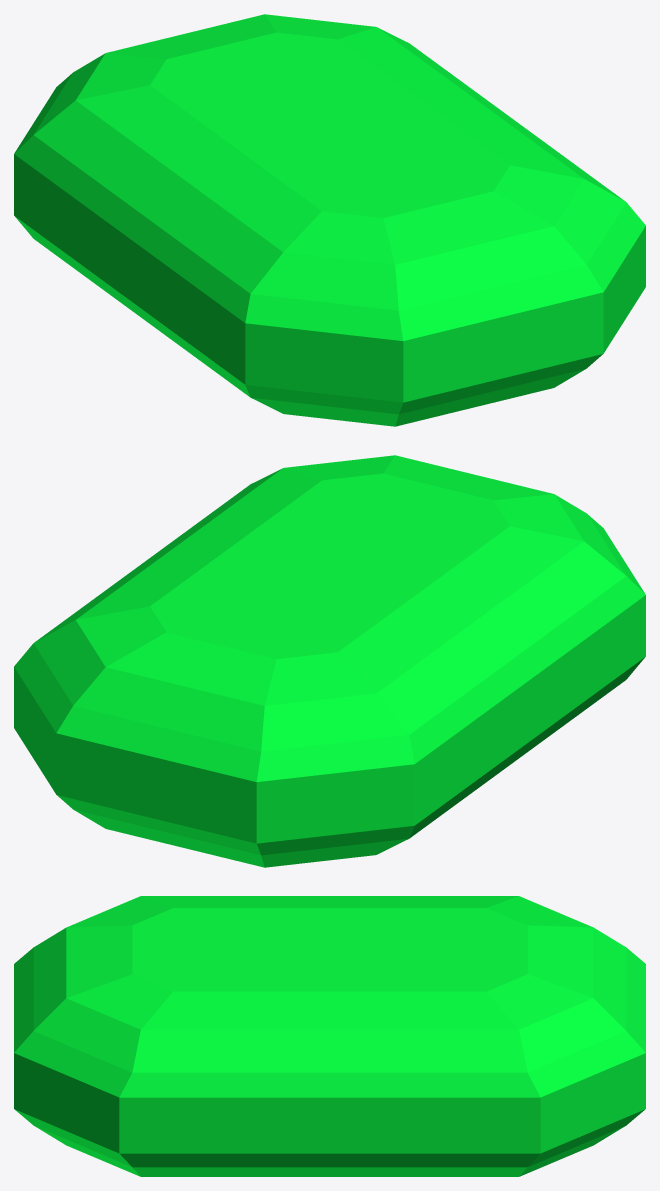
The model's file is ExpOrb.obj.
3 renders of one model, top to bottom at view 1: azimuth 30°, elevation 25°; view 2: azimuth 150°, elevation 25°; view 3: azimuth 270°, elevation 25°, orthographic. The views are drawn at different scales.
Parts seen in each view (by area): view 1: 立方体; view 2: 立方体; view 3: 立方体.
Part boxes in pixels (left/top/right/bottom): 立方体: left=14, top=14, right=645, bottom=426; 立方体: left=14, top=455, right=645, bottom=867; 立方体: left=14, top=896, right=645, bottom=1176.
Size of the model in its own units: 2.34 by 1.06 by 3.51.
Materials: 1 (1 with a texture image).
